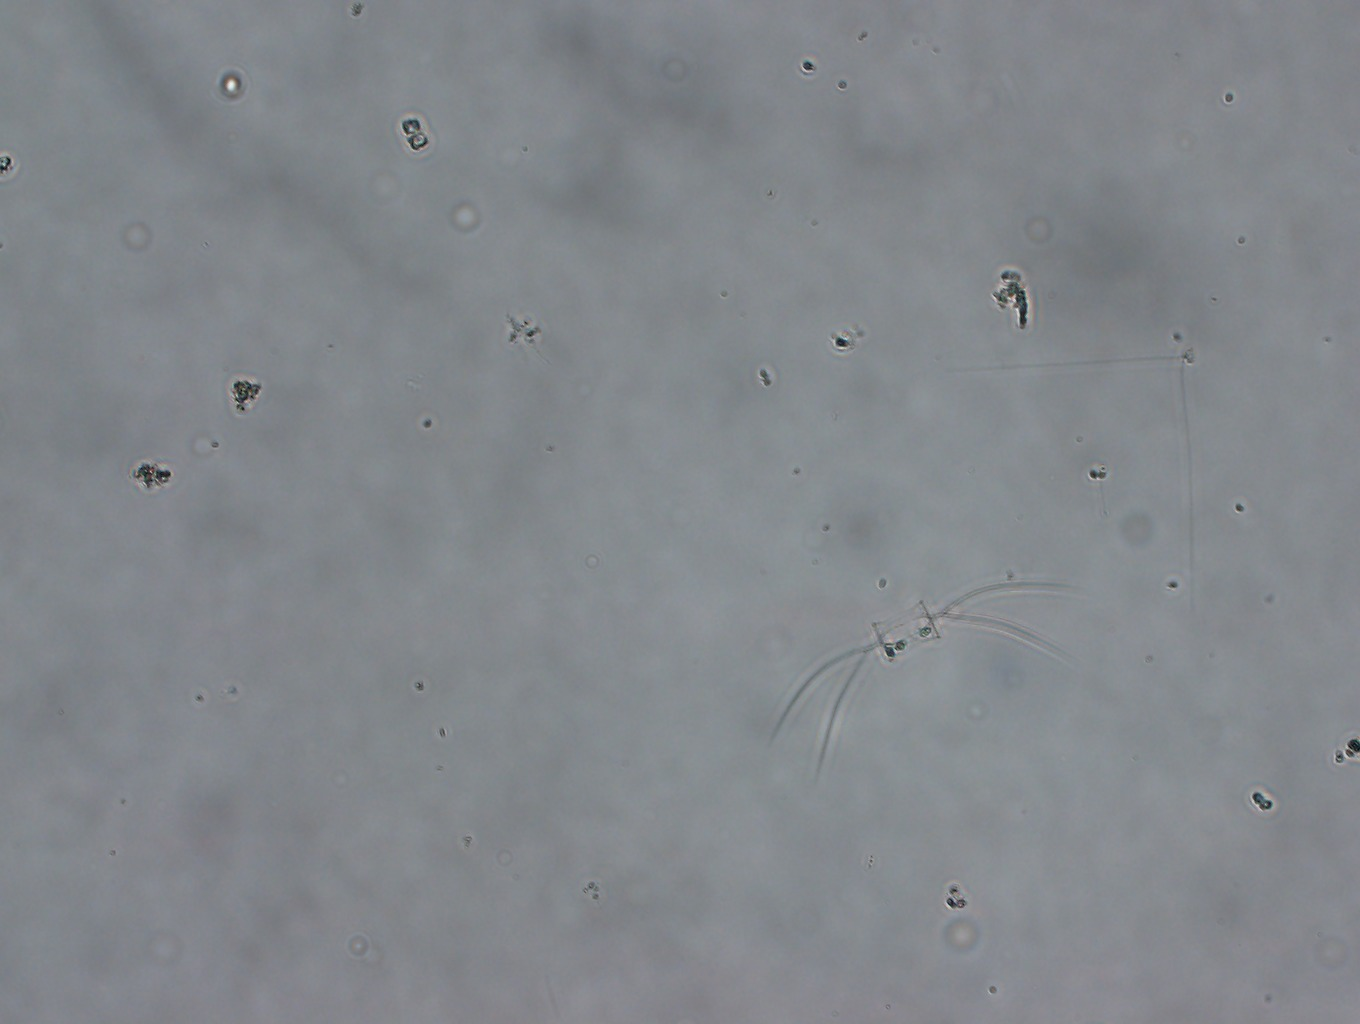chaetoceros: (758, 563, 1086, 787)
